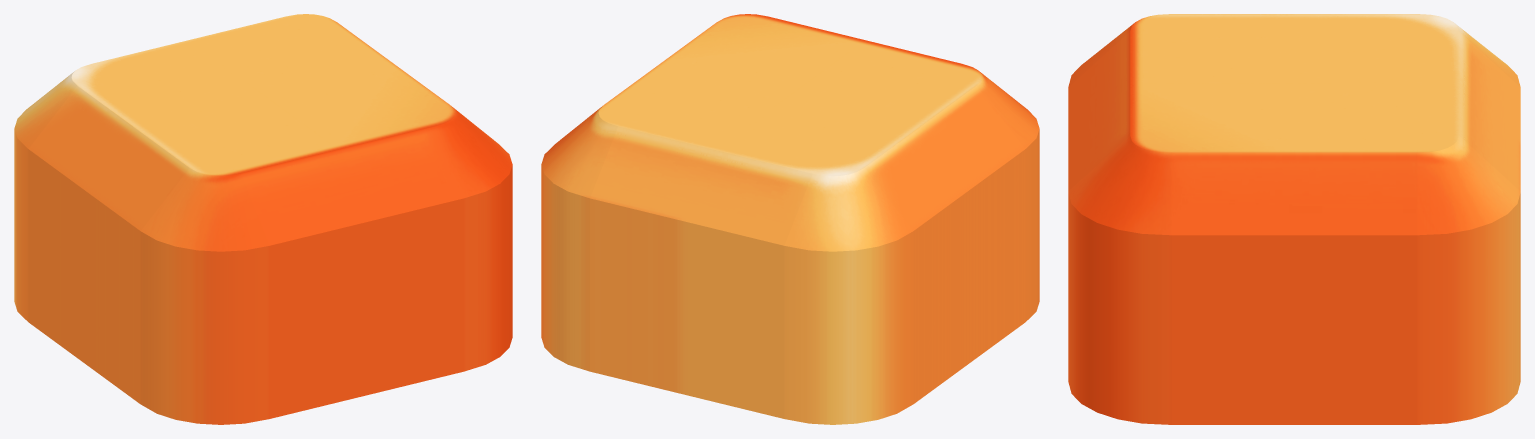
The model's file is Block_1x1_Orange.glb.
The picture shows the model from 3 angles, left to right: view 1: azimuth 30°, elevation 25°; view 2: azimuth 150°, elevation 25°; view 3: azimuth 270°, elevation 25°; orthographic projection. The views are drawn at different scales.
Visible parts, largest first — view 1: Edge_Bottom, FrontFace, Edge_Left, Corner_BottomLeft, Corner_BottomRight, Corner_TopLeft; view 2: Edge_Top, FrontFace, Edge_Left, Corner_TopLeft, Corner_TopRight, Corner_BottomLeft; view 3: Edge_Right, FrontFace, Corner_TopRight, Corner_BottomRight, Edge_Top, Edge_Bottom, Corner_TopLeft, Corner_BottomLeft.
Boxes of the visible parts, box(x1,y1,x2,y2) form: Edge_Bottom: box(241, 126, 463, 418); FrontFace: box(71, 14, 455, 176); Edge_Left: box(28, 86, 189, 403); Corner_BottomLeft: box(140, 168, 269, 424); Corner_BottomRight: box(436, 106, 512, 371); Corner_TopLeft: box(14, 71, 77, 321); Edge_Top: box(590, 126, 812, 418); FrontFace: box(598, 14, 982, 176); Edge_Left: box(864, 86, 1025, 403); Corner_TopLeft: box(784, 168, 913, 424); Corner_TopRight: box(541, 106, 617, 371); Corner_BottomLeft: box(976, 71, 1039, 321); Edge_Right: box(1171, 153, 1417, 424); FrontFace: box(1130, 14, 1458, 152); Corner_TopRight: box(1417, 135, 1520, 424); Corner_BottomRight: box(1068, 135, 1171, 424); Edge_Top: box(1458, 32, 1520, 190); Edge_Bottom: box(1068, 32, 1130, 190); Corner_TopLeft: box(1453, 22, 1520, 86); Corner_BottomLeft: box(1068, 22, 1135, 86).
Size of the model in its own units: 1 by 0.5995 by 1.
Materials: 1 (1 with a texture image).
